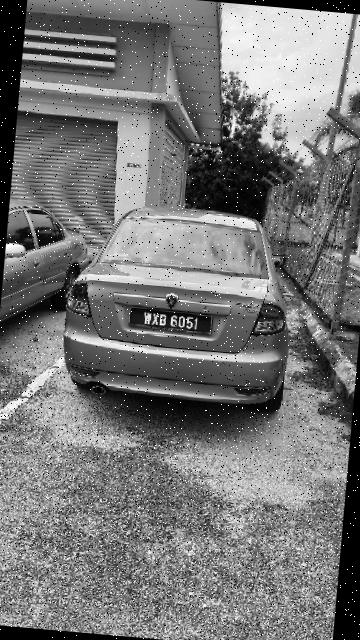License_Plate: (126, 302, 218, 342)
car: (54, 192, 309, 425)
